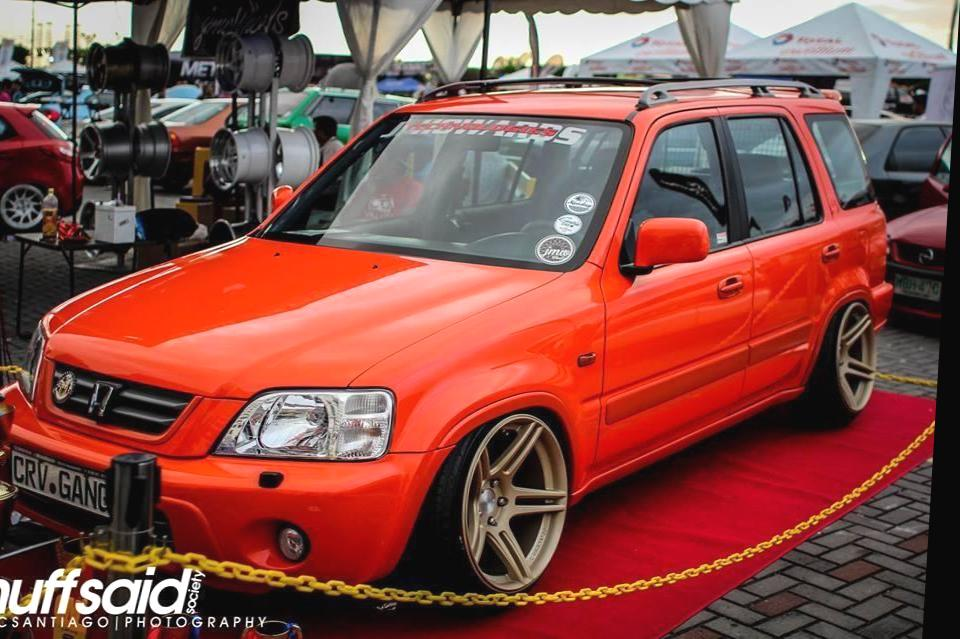License_Plate: (0, 439, 121, 520)
